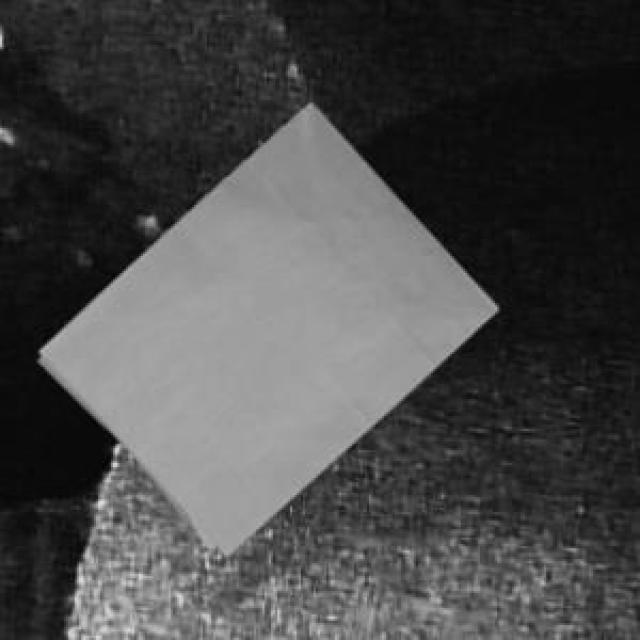paper: (34, 100, 493, 550)
